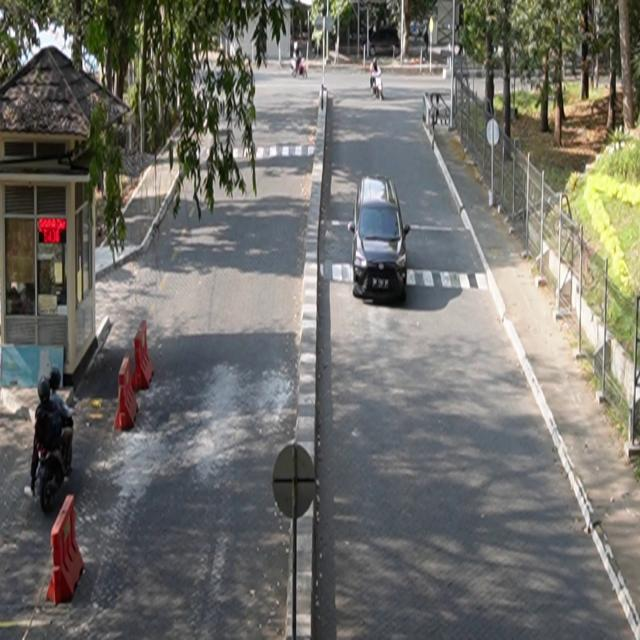car: (349, 175, 412, 302)
